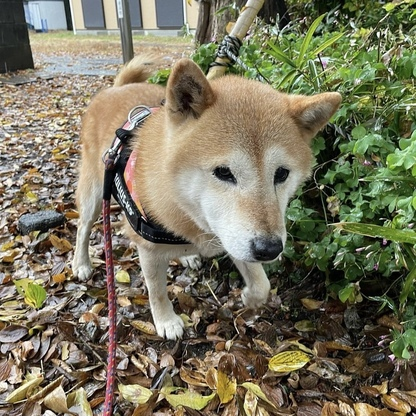shiba: (61, 49, 357, 353)
